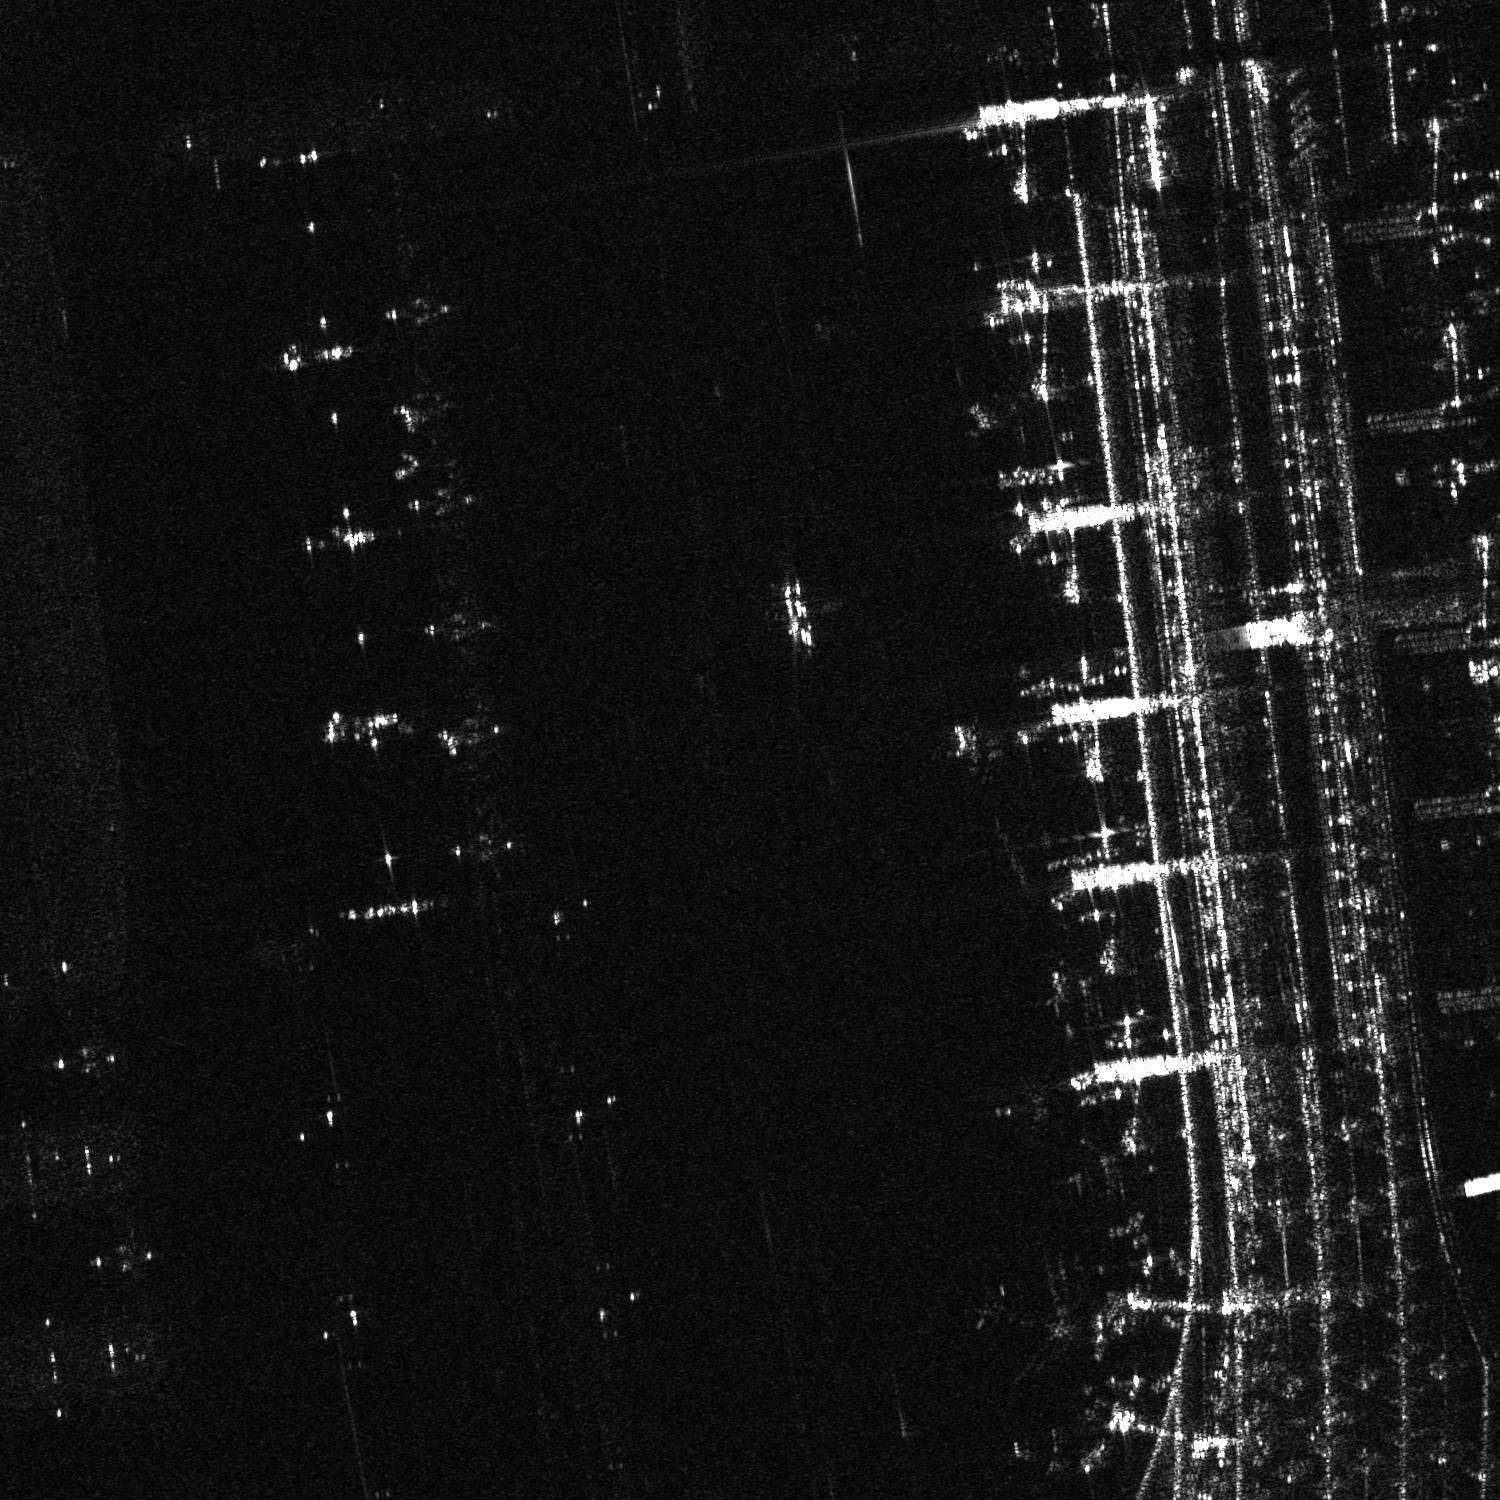A220: (1005, 1424, 1071, 1485)
Boeing787: (989, 1070, 1060, 1139)
other: (964, 1251, 1082, 1385)
